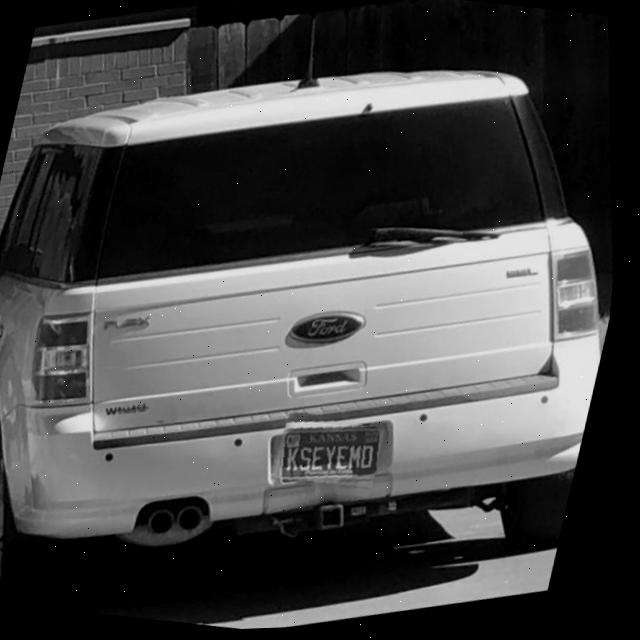LicensePlate: (287, 433, 388, 481)
